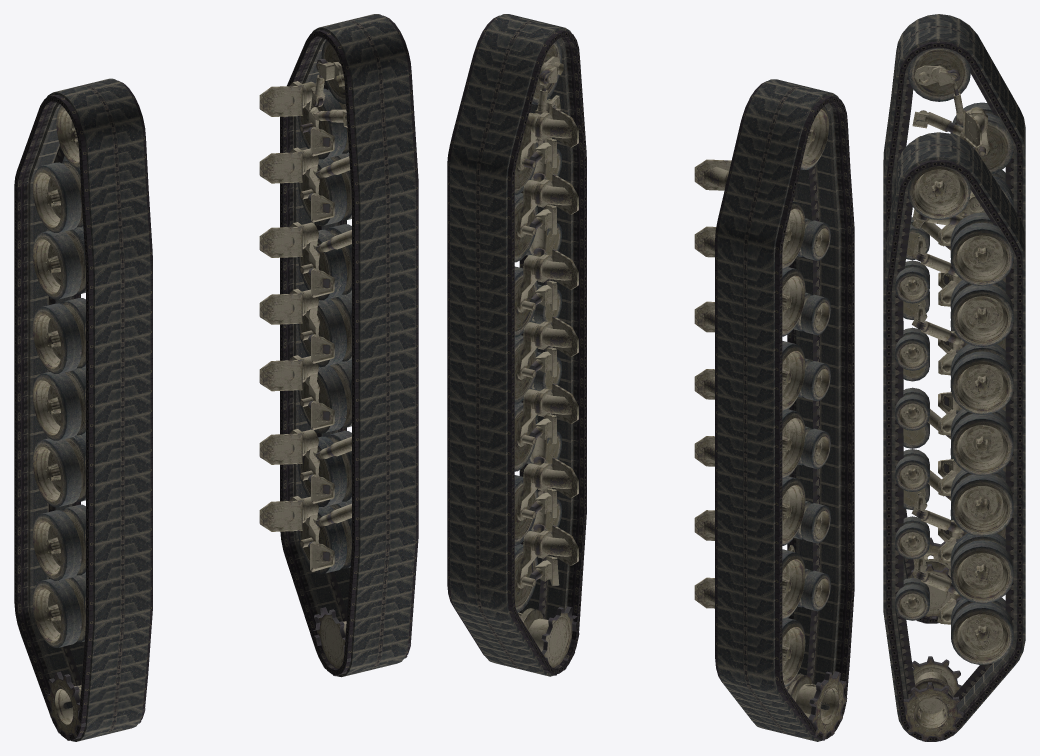
Rendered from Chassis.glb.
3 views of the same model, side by side, from view 1: azimuth 30°, elevation 25°; view 2: azimuth 150°, elevation 25°; view 3: azimuth 270°, elevation 25° (orthographic). The views are drawn at different scales.
Visible parts, largest first — view 1: set_0_group_0, set_1_group_0, set_3_group_0, set_2_group_0; view 2: set_0_group_0, set_1_group_0, set_3_group_0, set_2_group_0; view 3: set_3_group_0, set_1_group_0, set_2_group_0, set_0_group_0.
Boxes of the visible parts, box(x1,y1,x2,y2) form: set_0_group_0: box(14, 78, 152, 741); set_1_group_0: box(280, 14, 418, 677); set_3_group_0: box(259, 40, 410, 676); set_2_group_0: box(32, 105, 145, 740); set_0_group_0: box(715, 79, 854, 741); set_1_group_0: box(447, 14, 586, 676); set_3_group_0: box(483, 40, 579, 675); set_2_group_0: box(694, 106, 847, 740); set_3_group_0: box(895, 166, 1013, 741); set_1_group_0: box(883, 132, 1025, 741); set_2_group_0: box(896, 47, 1013, 623); set_0_group_0: box(883, 14, 1025, 623).
Size of the model in its own units: 3.66 by 6.79 by 1.49.
Materials: 4 (4 with a texture image).
